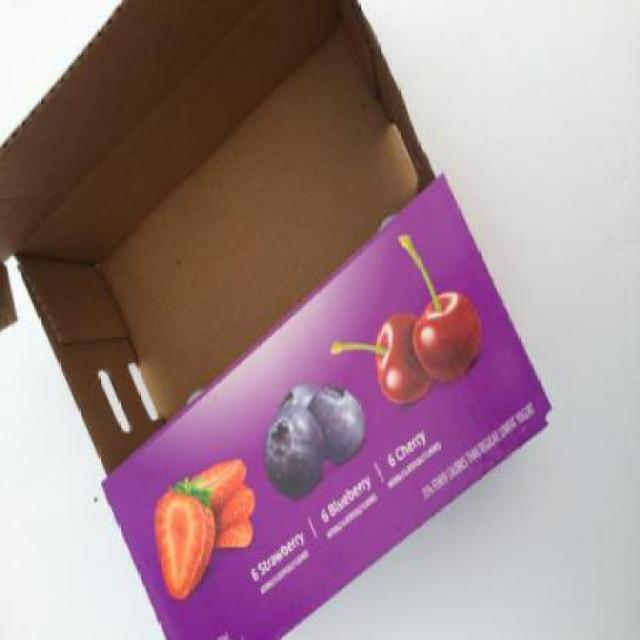box: (0, 0, 562, 640)
